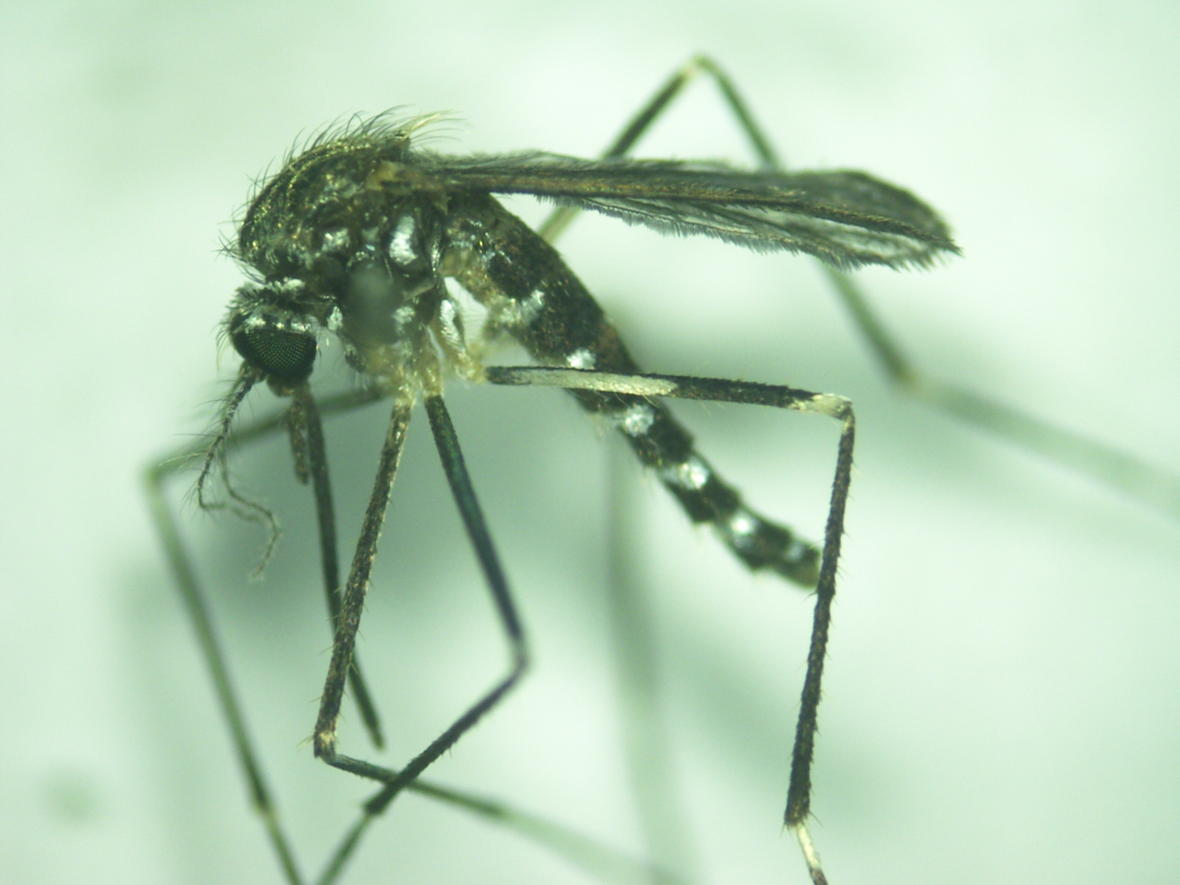dengue_mosquito: (137, 54, 960, 885)
